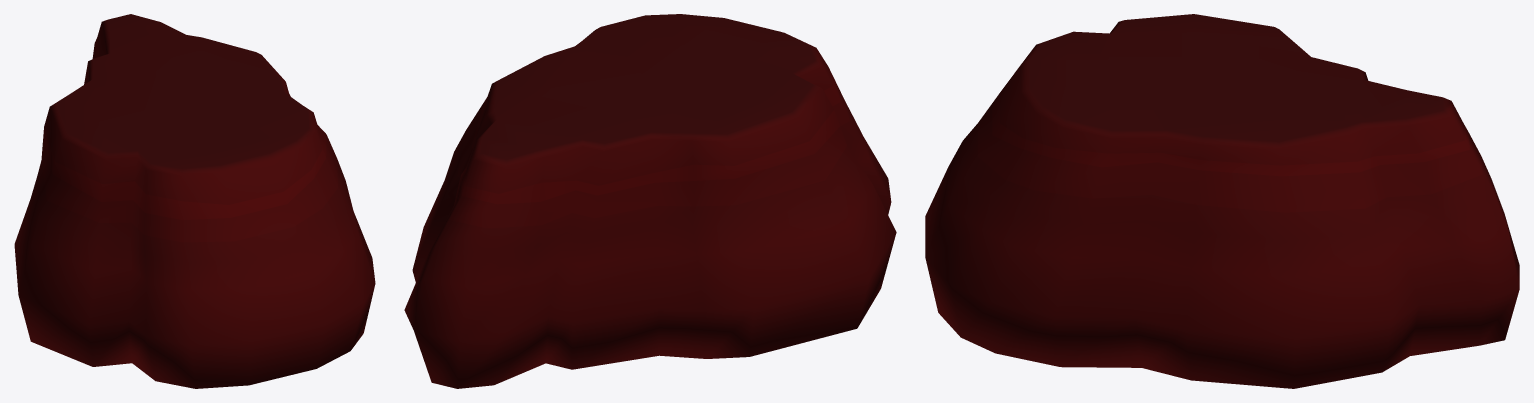
File: geology-landforms-alienplateumedium_v2.fbx
3 views of the same model, side by side, from view 1: azimuth 30°, elevation 25°; view 2: azimuth 150°, elevation 25°; view 3: azimuth 270°, elevation 25° (orthographic). The views are drawn at different scales.
Visible parts, largest first — view 1: AlienPlateuMedium_v2; view 2: AlienPlateuMedium_v2; view 3: AlienPlateuMedium_v2.
Part boxes in pixels (box(x1,y1,x2,y2)): AlienPlateuMedium_v2: box(14, 14, 375, 388); AlienPlateuMedium_v2: box(404, 14, 896, 388); AlienPlateuMedium_v2: box(925, 14, 1519, 388).
Size of the model in its own units: 41.31 by 21.7 by 53.15.
